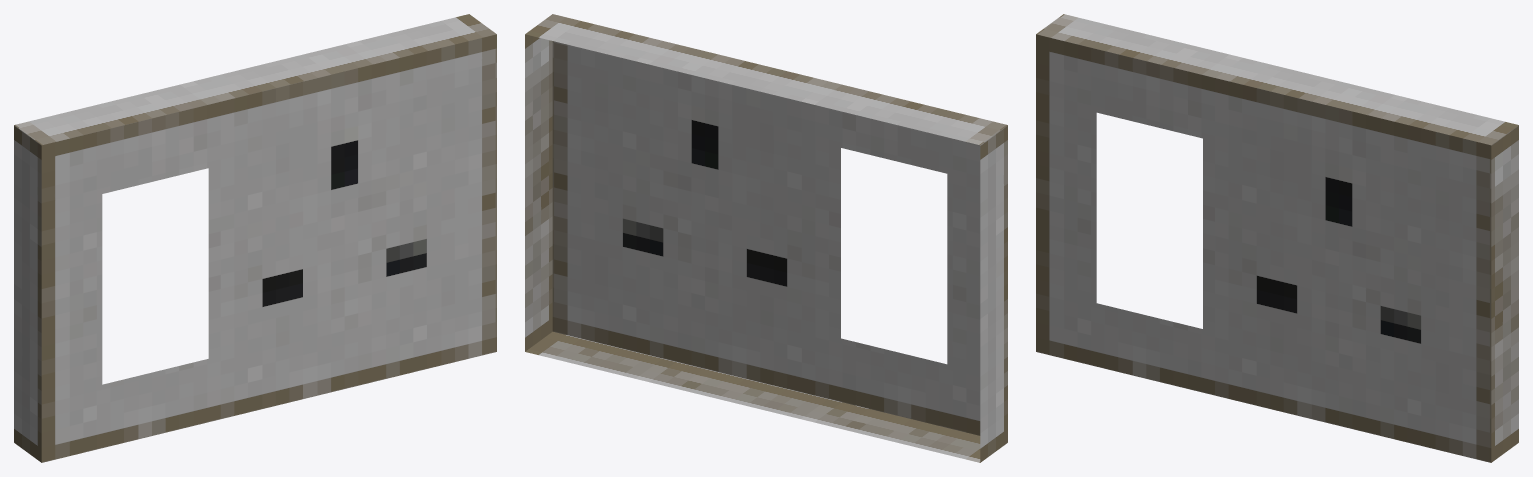
The model's file is SwitchBoard2.fbx.
3 views of the same model, side by side, from view 1: azimuth 30°, elevation 25°; view 2: azimuth 150°, elevation 25°; view 3: azimuth 330°, elevation 25° (orthographic).
Visible parts, largest first — view 1: SwitchBoard2; view 2: SwitchBoard2; view 3: SwitchBoard2.
Boxes of the visible parts, x1,y1,x2,y2 form: SwitchBoard2: [14, 14, 496, 462]; SwitchBoard2: [525, 14, 1007, 462]; SwitchBoard2: [1036, 14, 1518, 462].
Bounding box in the file's own units: 1.58 × 15 × 10.
